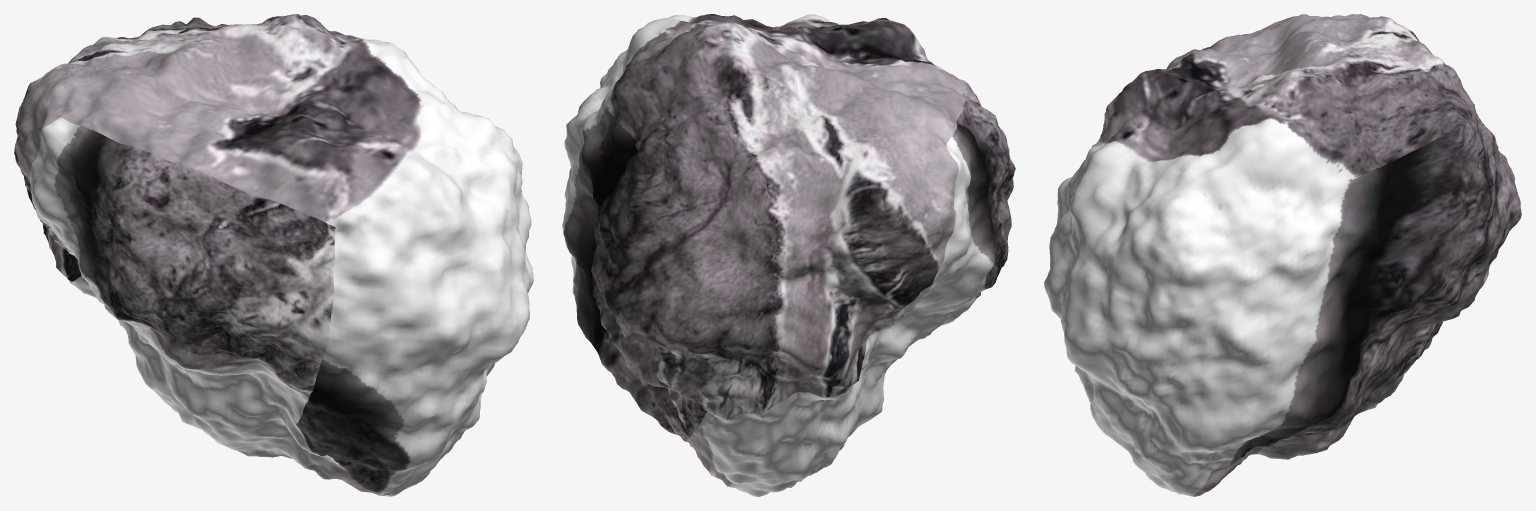
The model's file is CompNiq.glb.
3 views of the same model, side by side, from view 1: azimuth 30°, elevation 25°; view 2: azimuth 150°, elevation 25°; view 3: azimuth 270°, elevation 25° (orthographic). The views are drawn at different scales.
Visible parts, largest first — view 1: Cube; view 2: Cube; view 3: Cube.
Boxes of the visible parts, <box> form: Cube: <box>14,14,533,496</box>; Cube: <box>562,14,1015,496</box>; Cube: <box>1044,14,1521,496</box>.
Bounding box in the file's own units: 1.6 × 1.59 × 1.71.
1 material, 1 textured.
